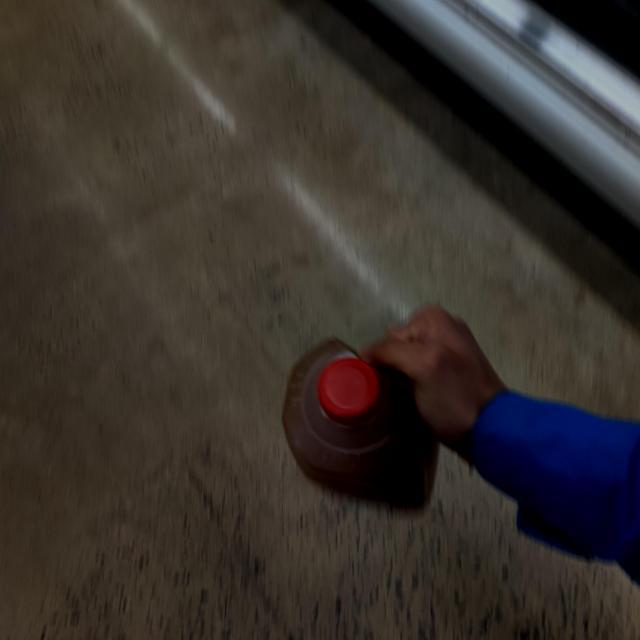Juice: (280, 342, 438, 517)
